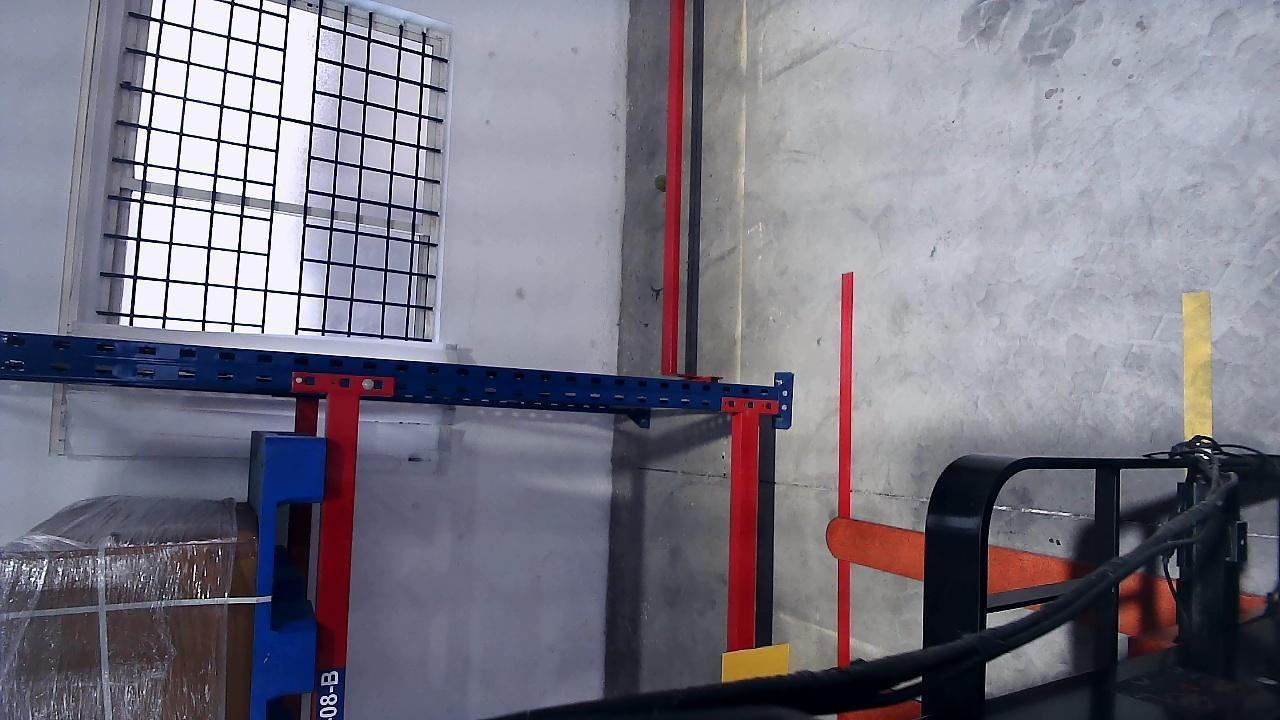red_line: (836, 270, 855, 670)
yellow_line: (1182, 291, 1215, 439)
